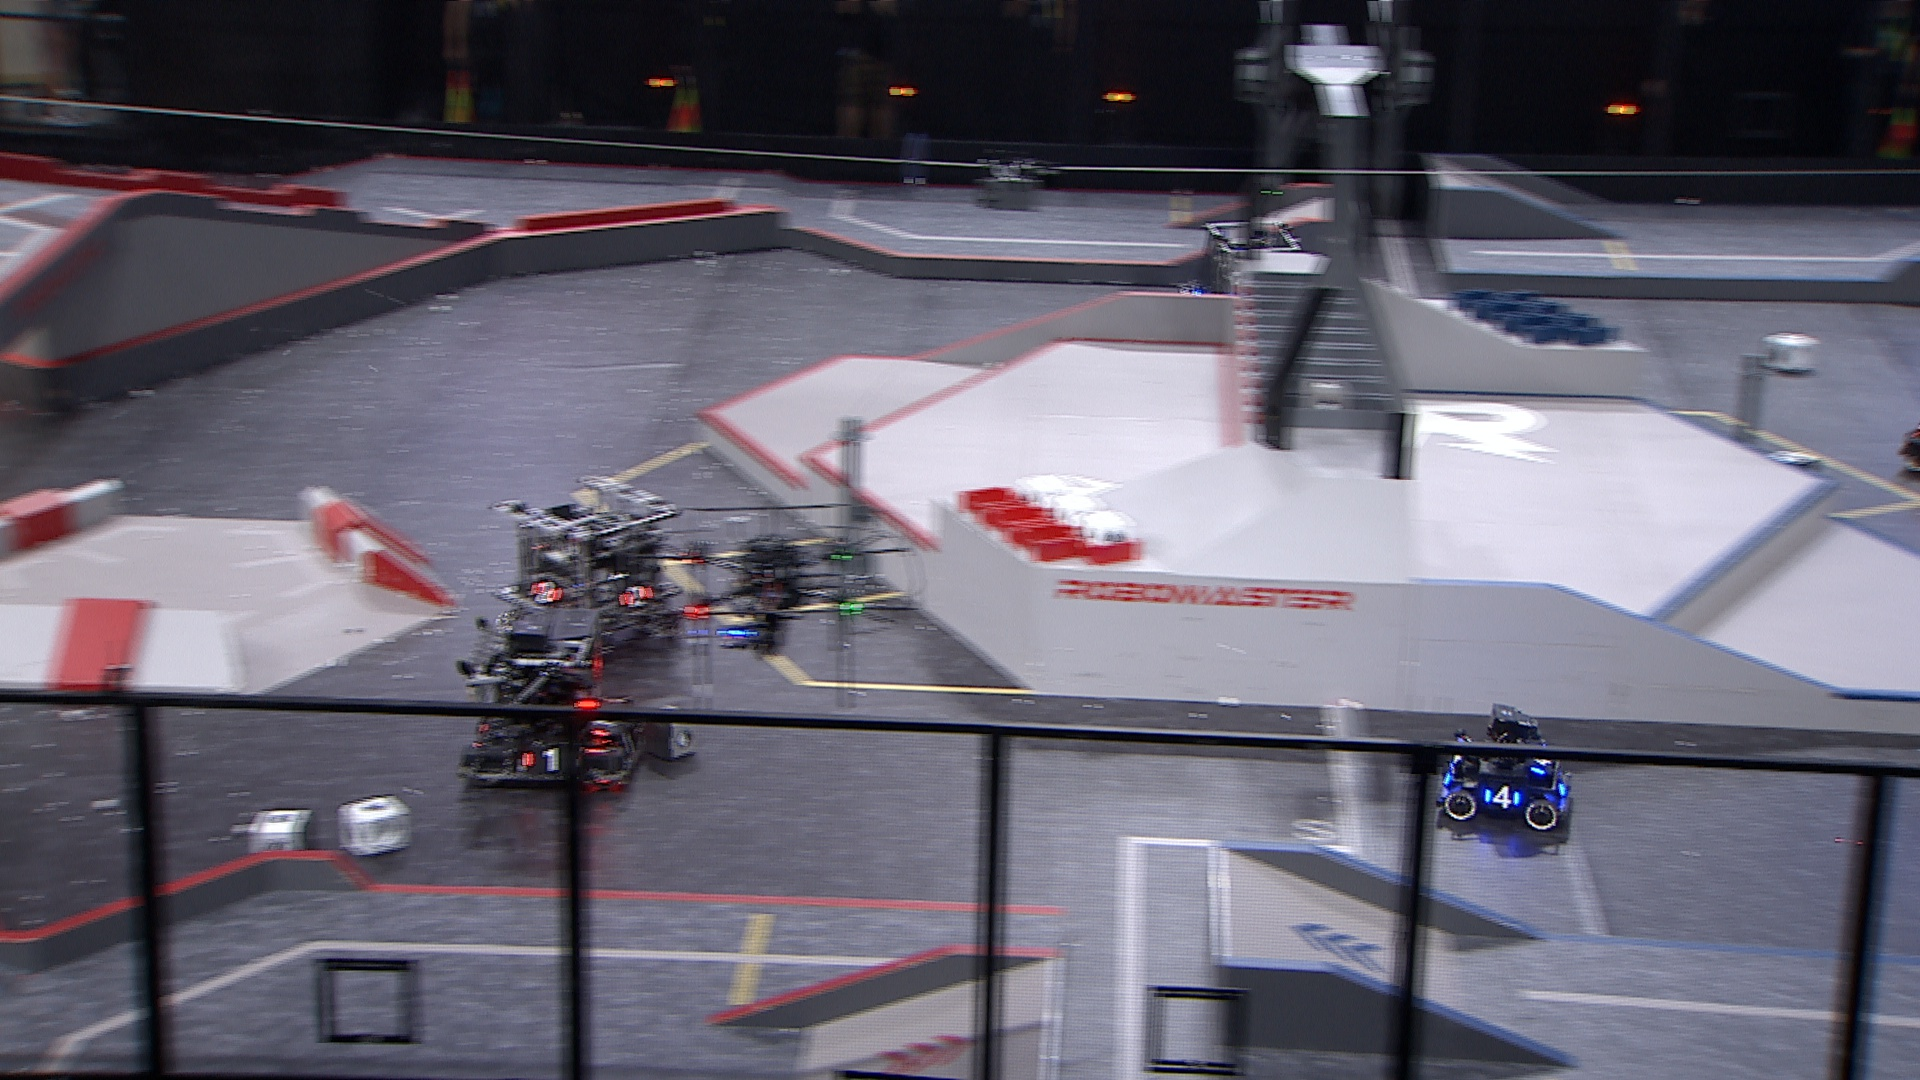armor: (613, 717, 646, 760), (585, 700, 622, 737), (517, 746, 562, 777), (1481, 783, 1523, 811), (615, 583, 654, 612), (524, 579, 562, 605), (1524, 746, 1555, 777)
car: (458, 604, 655, 793), (493, 471, 684, 655), (1439, 702, 1582, 831), (1178, 222, 1304, 328)
